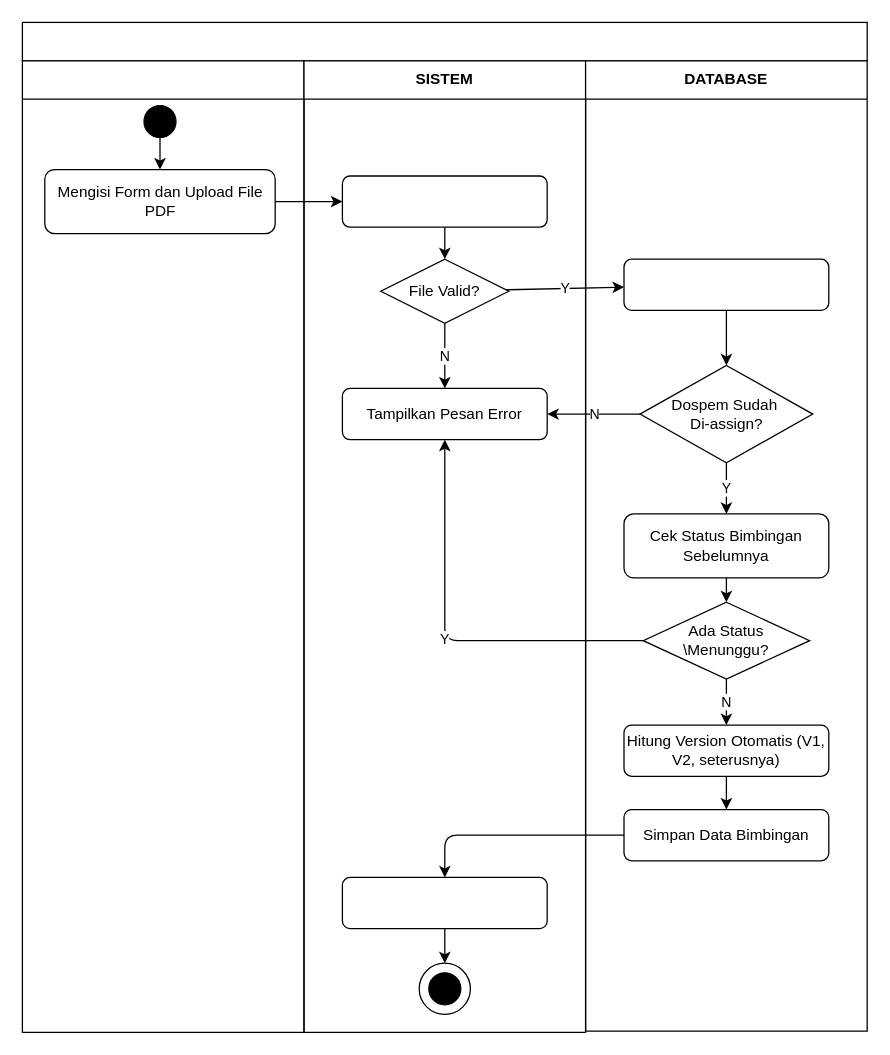
This 890x1055 diagram has some shape labels left out. Here are the shapes that lost their labels. From the top down, the box of each, then its label:
(21, 21, 867, 61): MAHASISWA UPLOAD BIMBINGAN
(341, 175, 547, 227): Validasi File (Wajib PDF)
(623, 258, 829, 310): Cek Dosen Pembimbing
(21, 60, 304, 1032): MAHASISWA
(341, 876, 547, 929): Tampilkan Pesan Sukses
